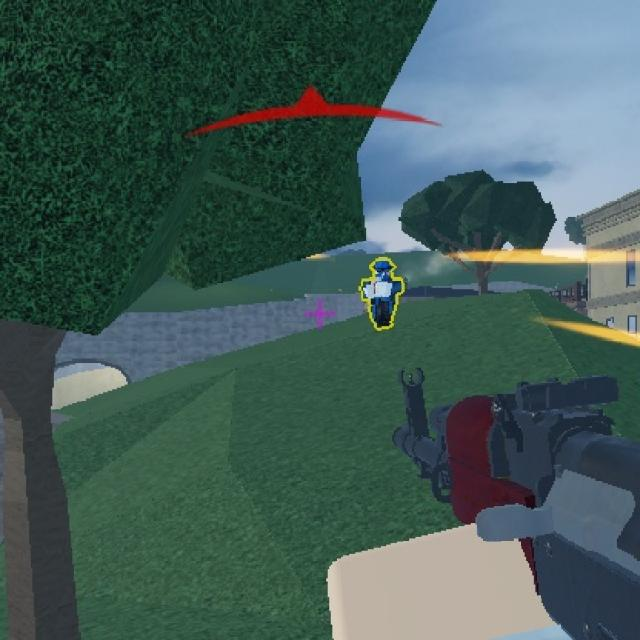player: (364, 254, 404, 330)
